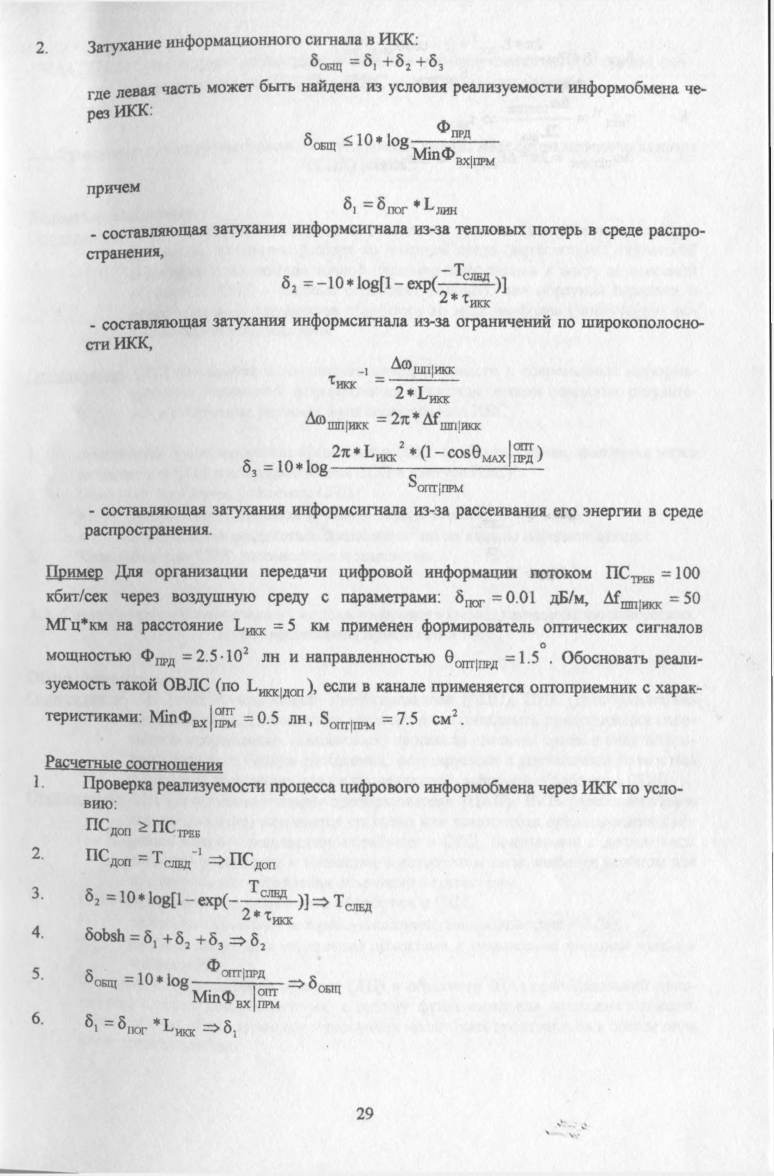L.икк: (361, 441, 398, 463), (417, 383, 453, 405), (162, 1015, 197, 1037)
L.лин: (422, 192, 461, 216)
S.опт.прм: (406, 472, 464, 492)
T.след: (150, 843, 192, 872), (453, 259, 491, 282), (249, 877, 289, 898)
Δf.шп.икк: (422, 410, 488, 432)
Δω.шп.икк: (303, 402, 370, 433), (388, 356, 457, 376)
δ.1: (142, 927, 159, 952), (340, 193, 357, 217), (363, 49, 378, 74), (83, 1011, 99, 1032)
δ.2: (78, 884, 102, 907), (173, 929, 194, 953), (278, 273, 299, 296), (394, 49, 412, 74)
δ.3: (427, 51, 446, 75), (240, 454, 257, 480), (209, 930, 227, 951)
δ.общ: (305, 49, 345, 75), (82, 965, 117, 991), (83, 925, 125, 946)
δ.пог: (376, 193, 407, 216), (116, 1016, 147, 1036)
θ.max.опт.прд: (472, 438, 536, 463)
τ.икк: (324, 366, 357, 391), (461, 288, 493, 310), (263, 907, 295, 928)
ПС.доп: (80, 843, 135, 870)
Ф.вх.опт.прм: (224, 987, 280, 1009)
Ф.опт.прд: (206, 959, 269, 979)
